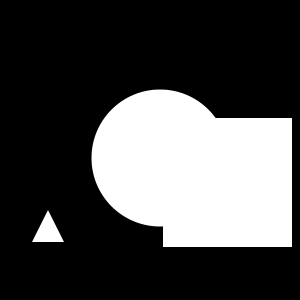circle: (163, 118, 292, 247)
rectangle: (92, 89, 228, 226)
triangle: (32, 210, 64, 242)
